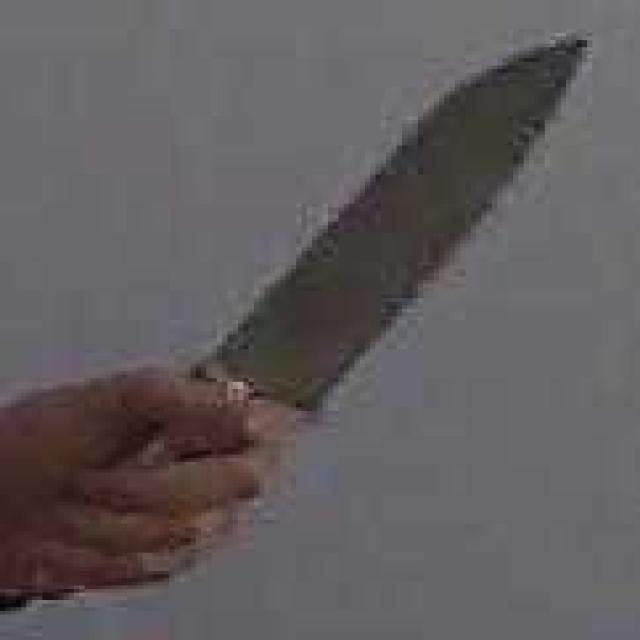Knife: (97, 28, 594, 591)
